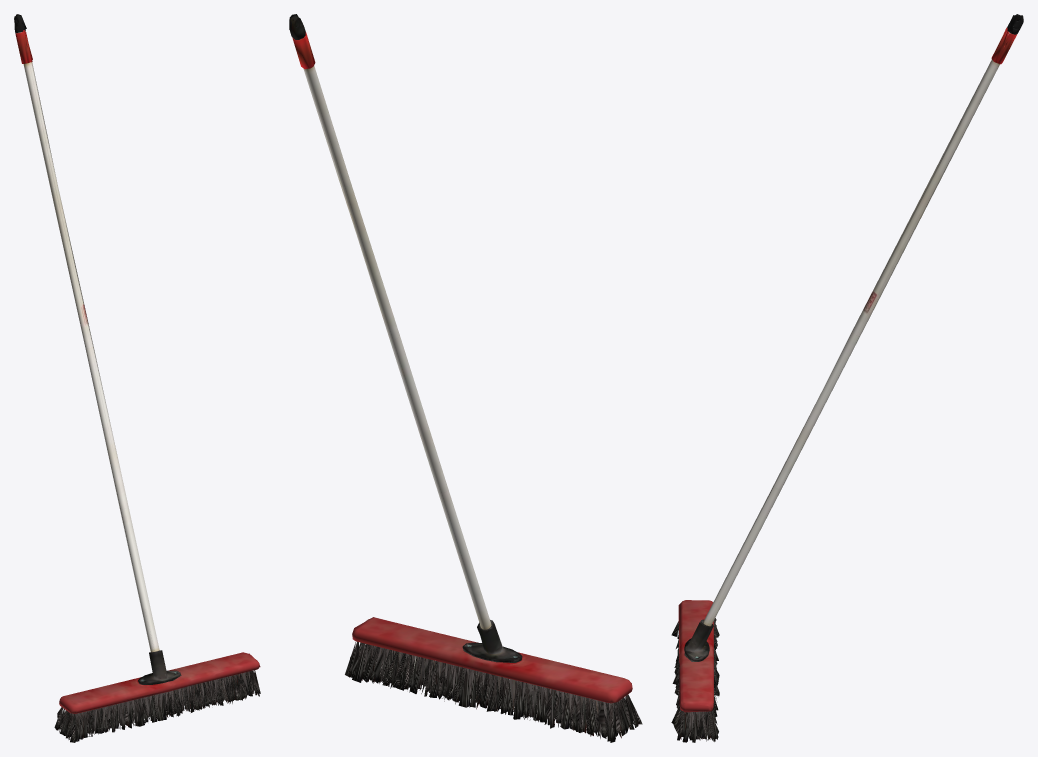
File: ph-plastic_broom.glb
3 renders of one model, left to right at view 1: azimuth 30°, elevation 25°; view 2: azimuth 150°, elevation 25°; view 3: azimuth 270°, elevation 25°, orthographic. The views are drawn at different scales.
Visible parts, largest first — view 1: plastic_broom (×2); view 2: plastic_broom (×2); view 3: plastic_broom (×2).
Part boxes in pixels (bbox=[...]): plastic_broom (×2): bbox=[14, 14, 260, 742]; plastic_broom (×2): bbox=[289, 14, 642, 742]; plastic_broom (×2): bbox=[671, 14, 1023, 742].
Size of the model in its own units: 0.4514 by 1.3 by 0.6145.
Materials: 2 (2 with a texture image).
